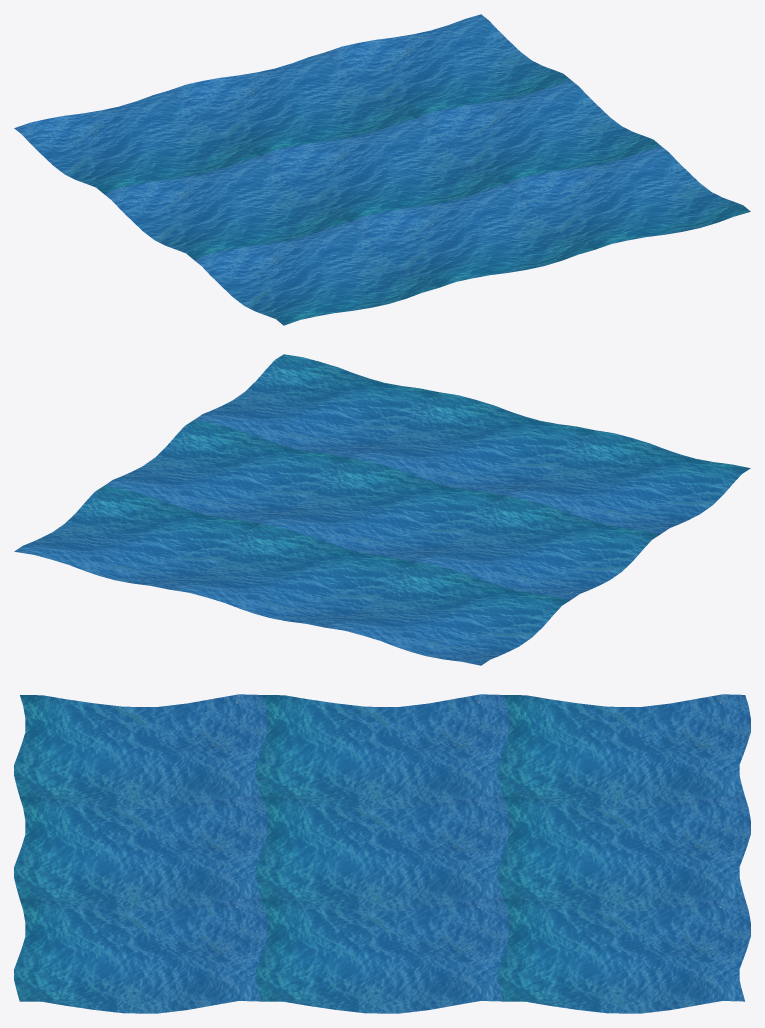
File: ocean_000289.obj
The picture shows the model from 3 angles, top to bottom: view 1: azimuth 30°, elevation 25°; view 2: azimuth 150°, elevation 25°; view 3: azimuth 270°, elevation 25°; orthographic projection. The views are drawn at different scales.
Parts seen in each view (by area): view 1: Ocean_Plan.001; view 2: Ocean_Plan.001; view 3: Ocean_Plan.001.
Part boxes in pixels (box(x1,y1,x2,y2)): Ocean_Plan.001: box(14, 14, 750, 325); Ocean_Plan.001: box(14, 354, 750, 665); Ocean_Plan.001: box(14, 694, 750, 1013).
Size of the model in its own units: 109292 by 2405 by 110692.
1 material, 1 textured.
